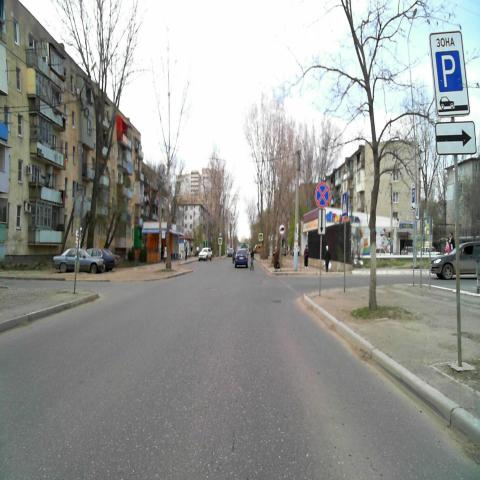8_2_3: (318, 208, 326, 234)
8_3_1: (435, 120, 476, 157)
